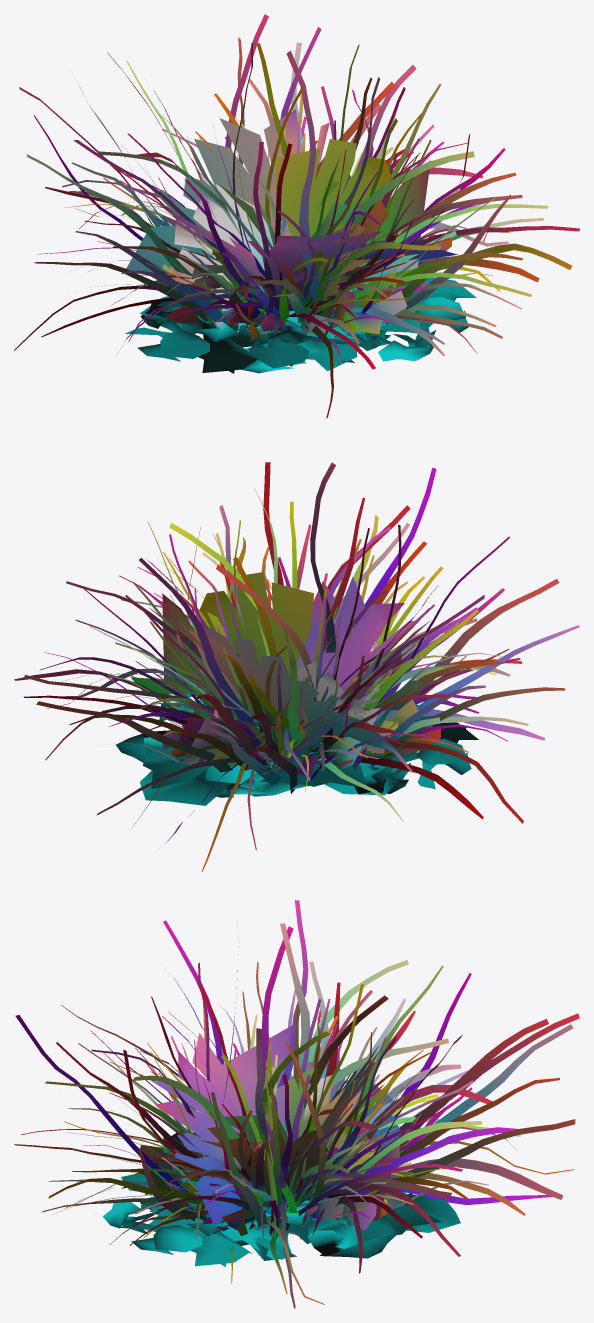
The model's file is Wild_Grass_vczndjqja_Mid_vczndjqja_VarE_LOD0.fbx.
3 renders of one model, top to bottom at view 1: azimuth 30°, elevation 25°; view 2: azimuth 150°, elevation 25°; view 3: azimuth 270°, elevation 25°, orthographic. The views are drawn at different scales.
Parts seen in each view (by area): view 1: _2mp4_VarE_LOD1; view 2: _2mp4_VarE_LOD1; view 3: _2mp4_VarE_LOD1.
Boxes of the visible parts, bbox=[...] form: _2mp4_VarE_LOD1: bbox=[14, 14, 579, 418]; _2mp4_VarE_LOD1: bbox=[14, 462, 579, 871]; _2mp4_VarE_LOD1: bbox=[14, 900, 579, 1308].
Bounding box in the file's own units: 109 × 58.72 × 109.
